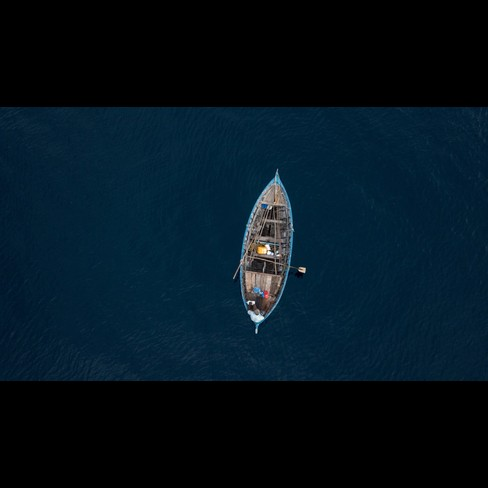boat: (226, 163, 309, 337)
